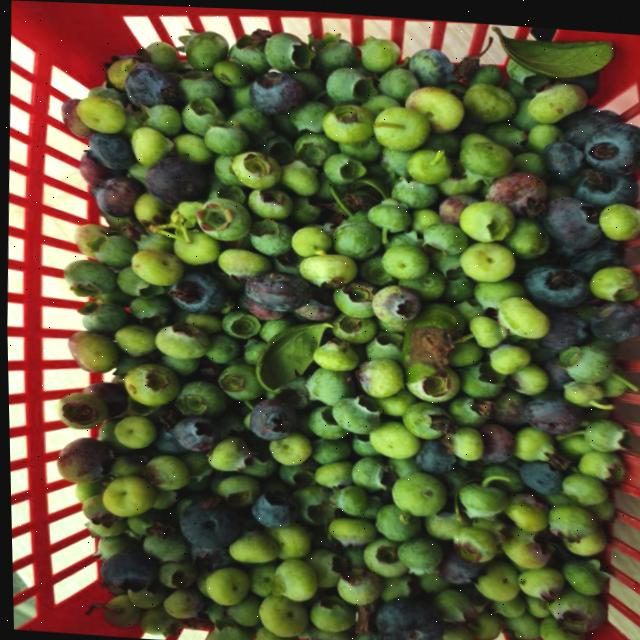RipeBlueBerry: (364, 592, 443, 640), (238, 264, 311, 314), (542, 188, 603, 246), (580, 114, 640, 172), (171, 499, 239, 550), (245, 67, 307, 113), (524, 257, 585, 303), (569, 164, 639, 202), (143, 157, 204, 200), (163, 268, 218, 315), (584, 294, 640, 340), (97, 547, 150, 595), (120, 59, 171, 106), (243, 395, 294, 439), (83, 129, 134, 170), (245, 487, 294, 528), (541, 136, 586, 179), (170, 413, 216, 453), (515, 455, 562, 493), (413, 438, 456, 471)
Semi-RipeBlueBerry: (482, 163, 545, 213), (89, 173, 139, 218)
UnripeBlueBerry: (383, 467, 446, 517), (96, 468, 155, 521), (526, 75, 589, 123), (53, 433, 111, 485), (403, 81, 464, 130), (370, 101, 431, 149), (454, 237, 518, 281), (453, 197, 514, 241), (63, 328, 118, 375), (120, 363, 178, 407), (168, 377, 226, 421), (295, 247, 357, 288), (253, 592, 306, 639), (462, 76, 516, 121), (194, 196, 248, 241), (368, 280, 420, 326), (321, 99, 374, 144), (61, 254, 115, 298), (496, 526, 552, 568), (350, 353, 402, 398), (493, 294, 547, 337), (230, 144, 282, 188), (546, 593, 607, 630), (268, 556, 317, 601), (151, 321, 206, 361), (298, 366, 352, 406), (181, 26, 230, 70), (262, 29, 312, 72), (365, 419, 420, 458), (393, 533, 444, 575), (454, 478, 506, 519), (128, 248, 185, 285), (323, 61, 373, 103), (327, 393, 379, 433), (402, 142, 455, 181), (54, 389, 104, 430), (377, 238, 427, 279), (559, 553, 608, 594), (73, 95, 124, 134), (125, 126, 173, 167), (214, 360, 261, 401), (347, 451, 395, 491), (400, 399, 451, 436), (513, 563, 564, 600), (199, 564, 245, 605), (471, 558, 517, 599), (175, 97, 225, 134), (545, 503, 596, 539), (203, 434, 250, 473), (574, 446, 626, 481), (597, 197, 640, 239), (579, 412, 629, 448), (322, 514, 374, 548), (506, 213, 548, 255), (333, 218, 380, 255), (227, 527, 273, 564), (405, 45, 452, 81), (320, 149, 367, 185), (364, 194, 408, 232), (511, 426, 557, 462), (558, 470, 607, 503), (485, 338, 531, 373), (110, 412, 153, 449), (247, 184, 292, 219), (309, 336, 353, 371), (275, 160, 318, 195), (357, 35, 401, 69), (266, 429, 310, 463), (442, 423, 484, 458), (289, 222, 332, 256), (559, 526, 609, 555), (158, 587, 200, 619), (327, 483, 366, 514), (98, 595, 137, 625)
